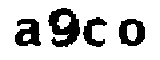9: (46, 8, 81, 50)
a: (14, 17, 43, 50)
c: (82, 15, 110, 49)
o: (115, 14, 149, 49)
